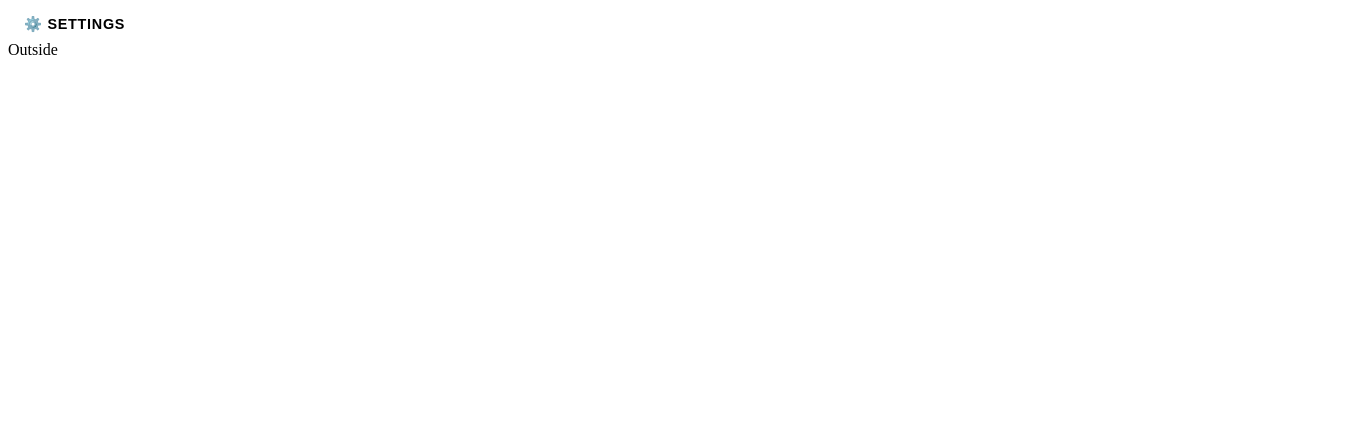
SettingsPanel › closes panel when clicking outside
The width and height of the screenshot is (1366, 427).
Click the button "⚙️ Settings": coordinates (75, 24) [8, 8, 141, 41]
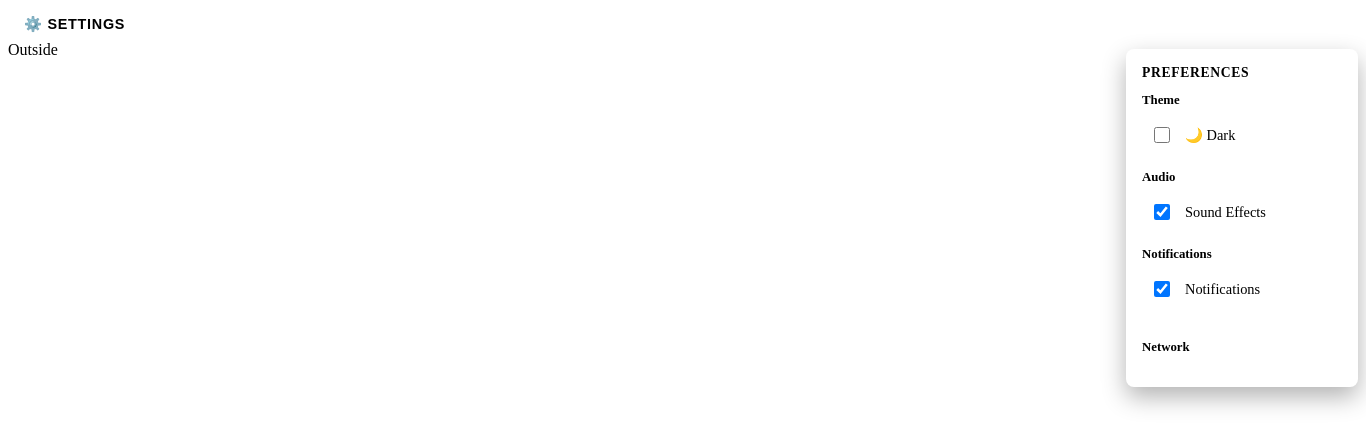
Check: the text "Preferences" is shown, box [1142, 65, 1249, 80]
Press the mouse on the text with test id "outside": coordinates (33, 50) [8, 41, 58, 58]
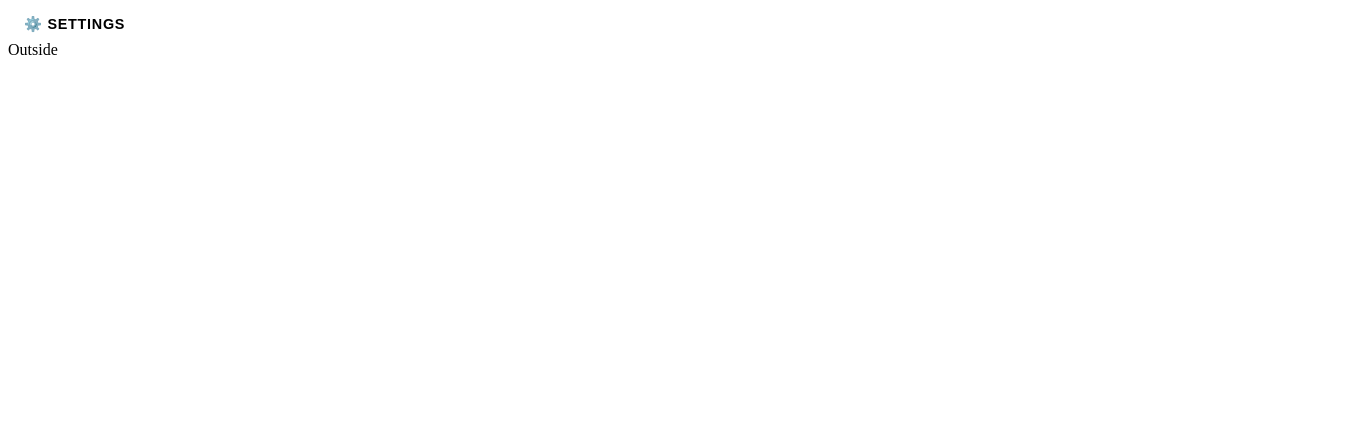
Check: the text "Preferences" is gone
